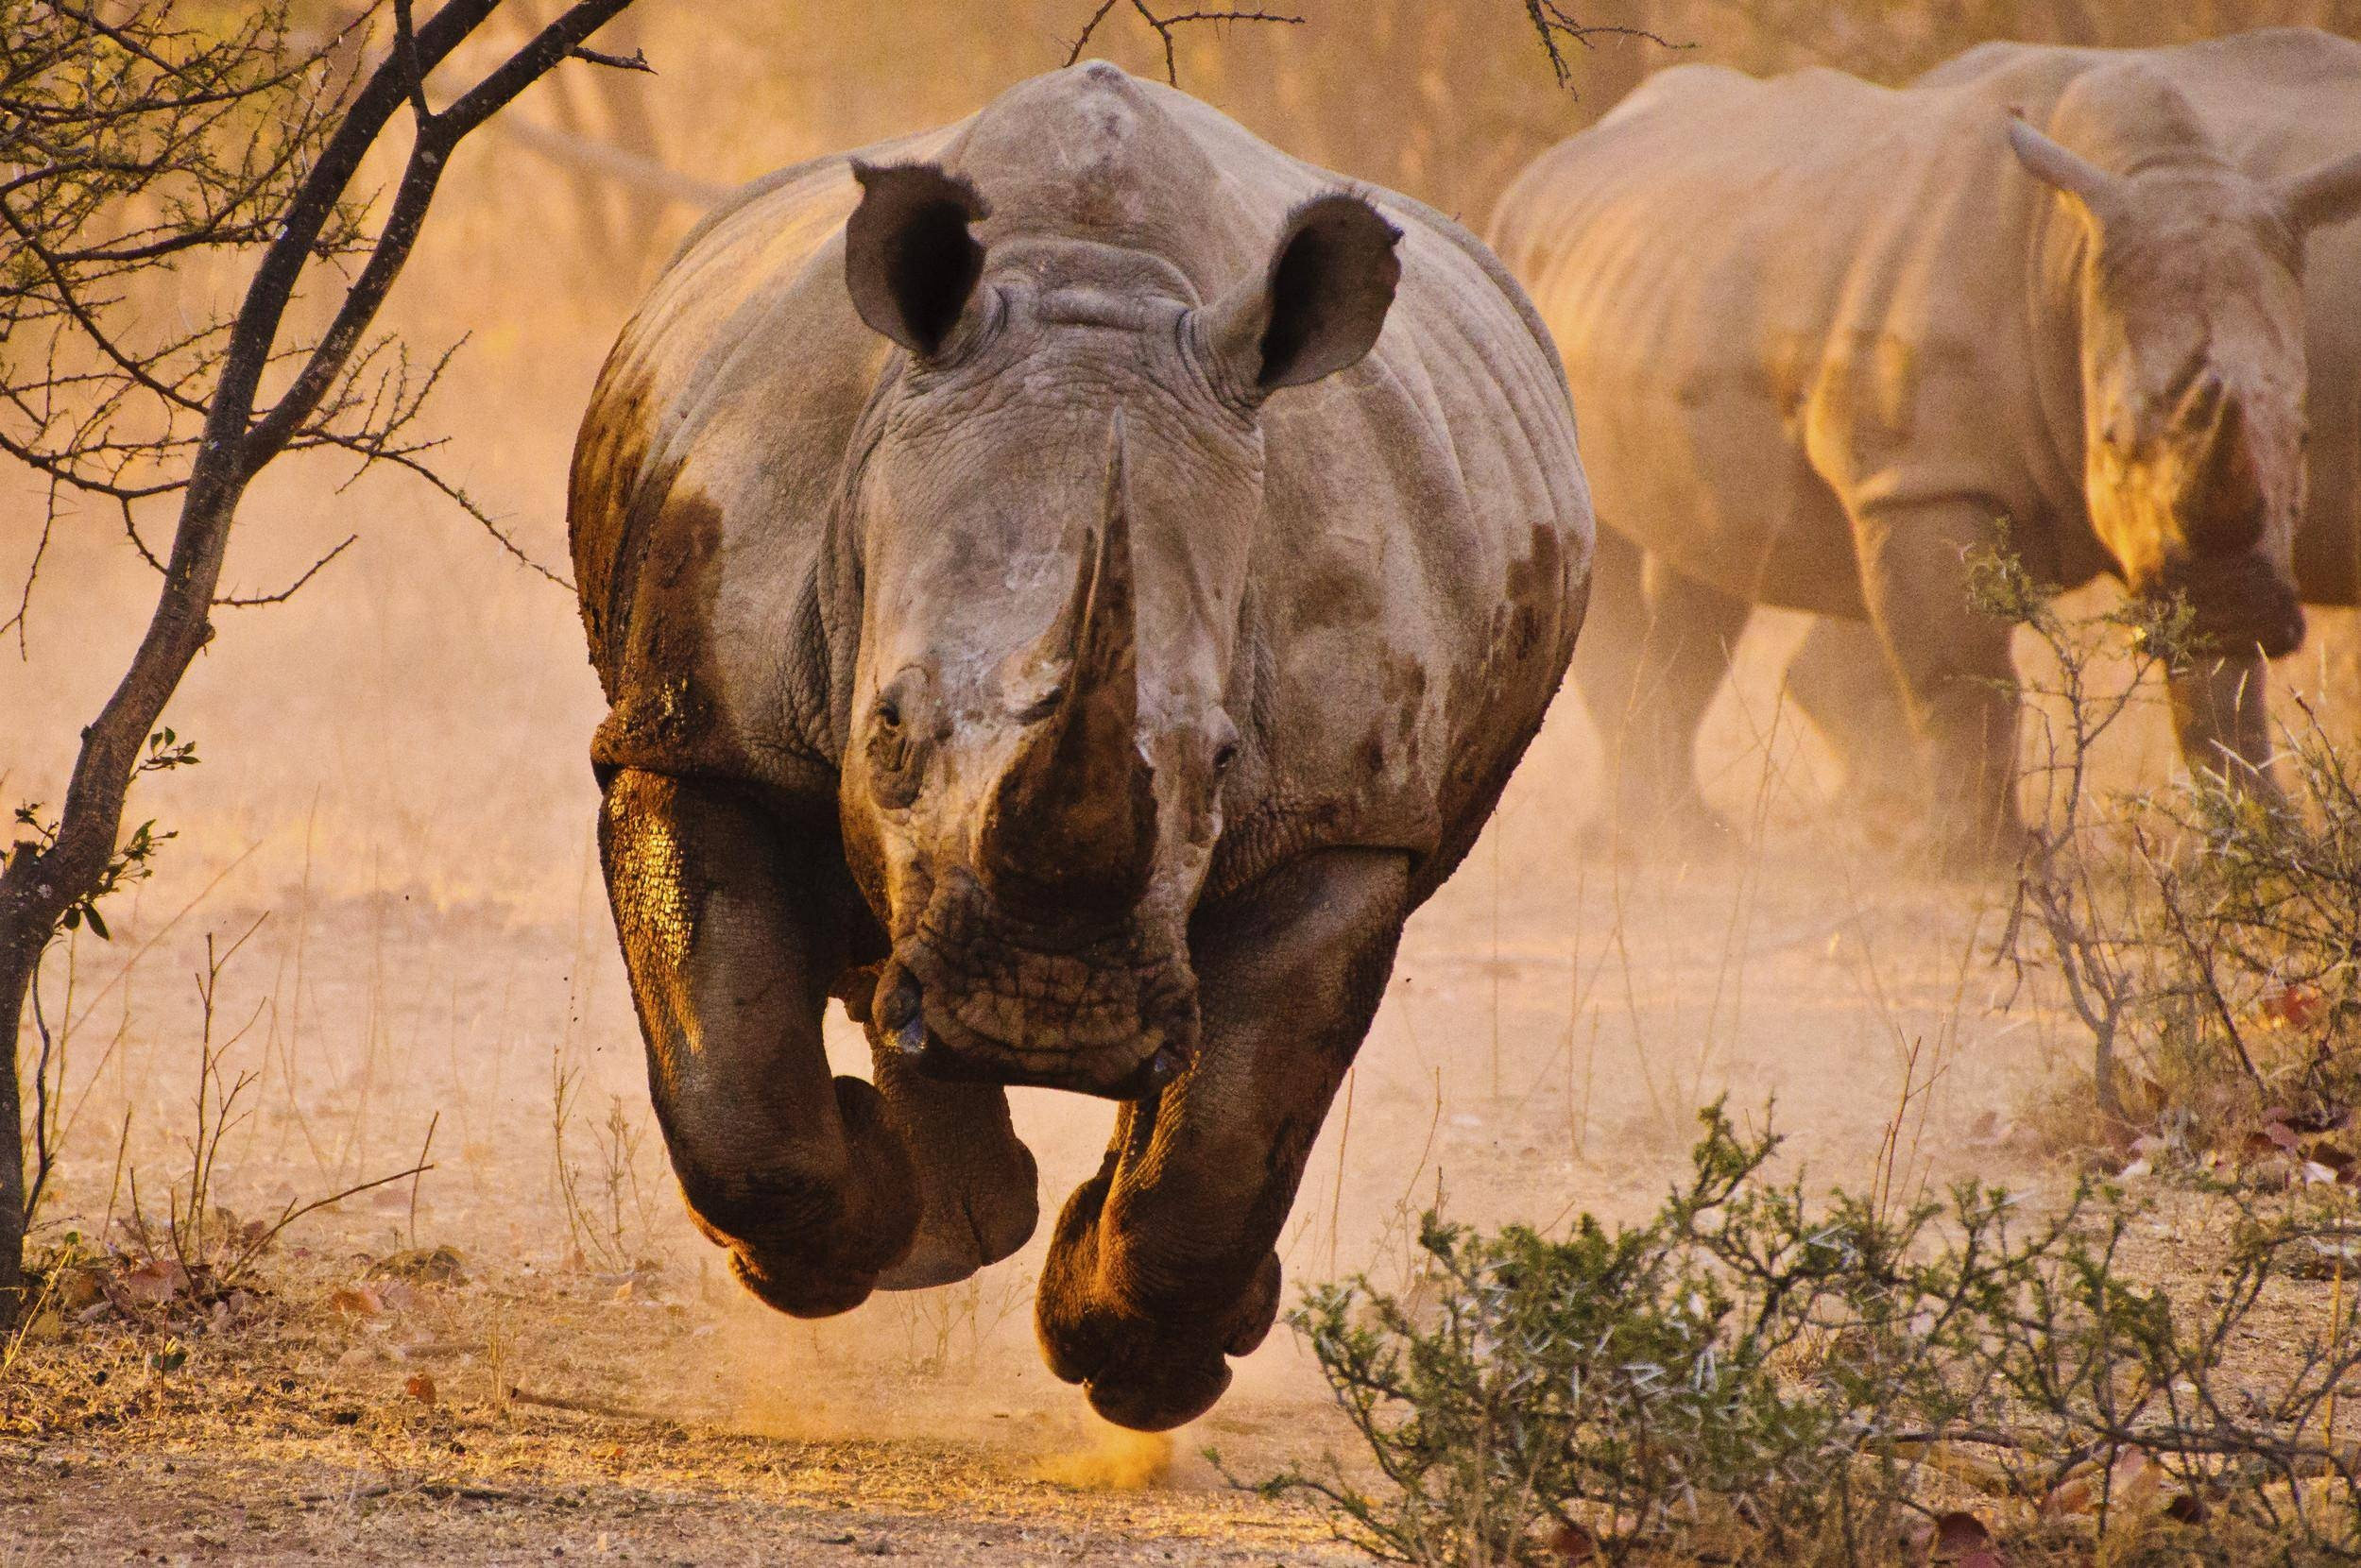rhino: (574, 49, 1603, 1424), (1482, 51, 2357, 880)
